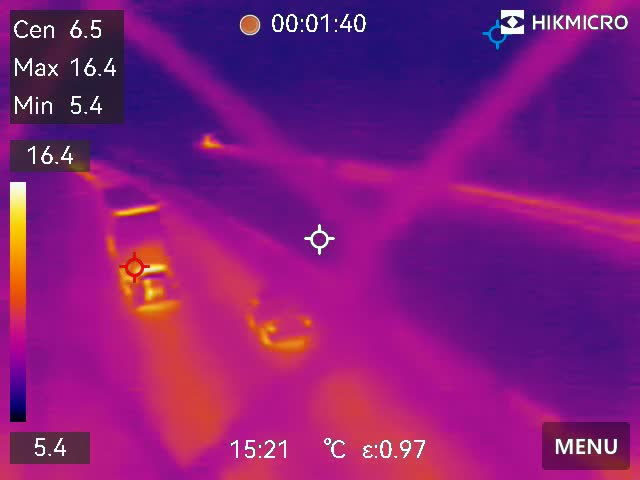heavyTruck: (91, 173, 187, 317)
